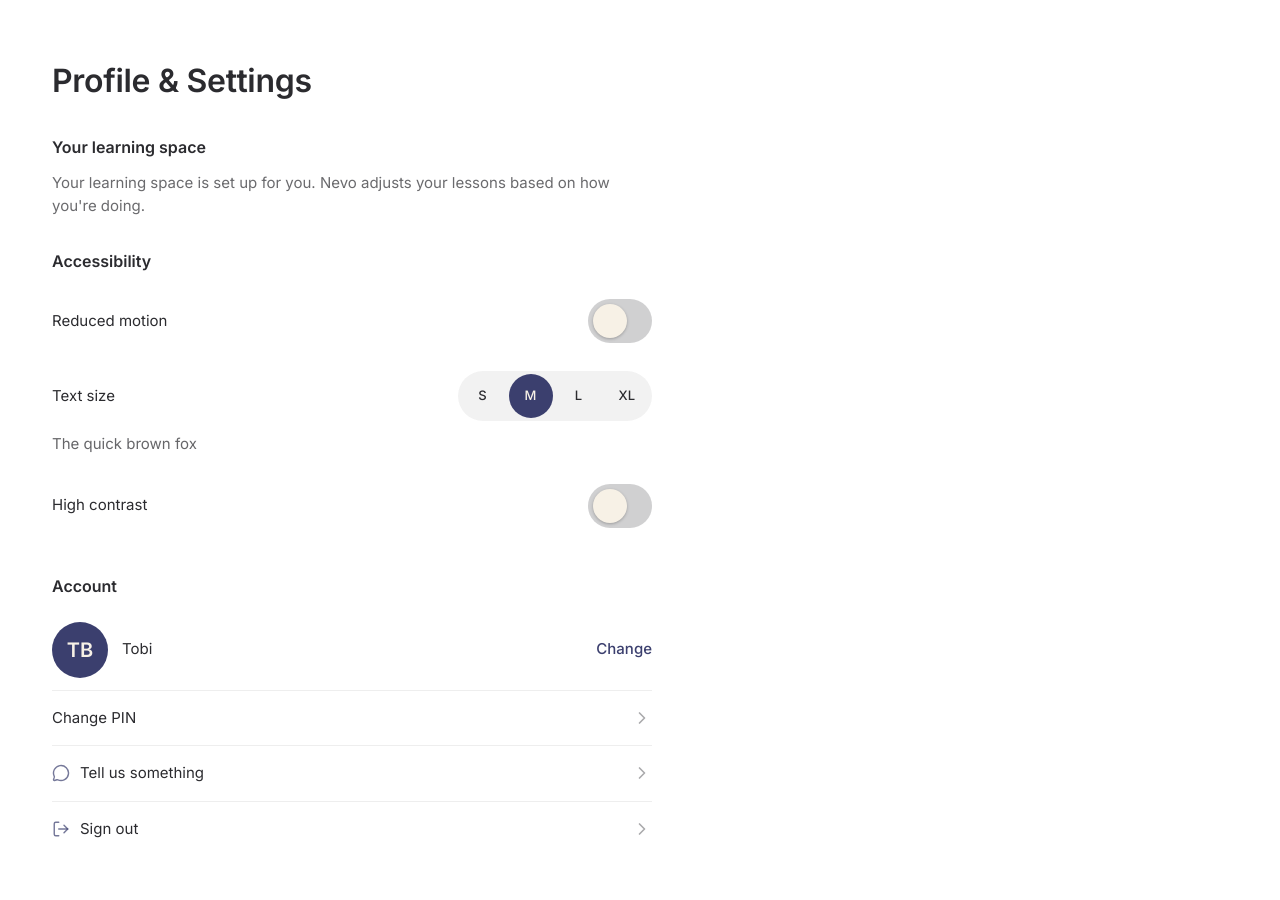
Test case: saving the name a child chose › puts the name back, and says nothing was saved, when the account refuses it
Expected: the text "Tobi" is shown, [122, 639, 152, 658]
Step 1. Click the button "Change" → click(624, 650), box [596, 628, 652, 672]
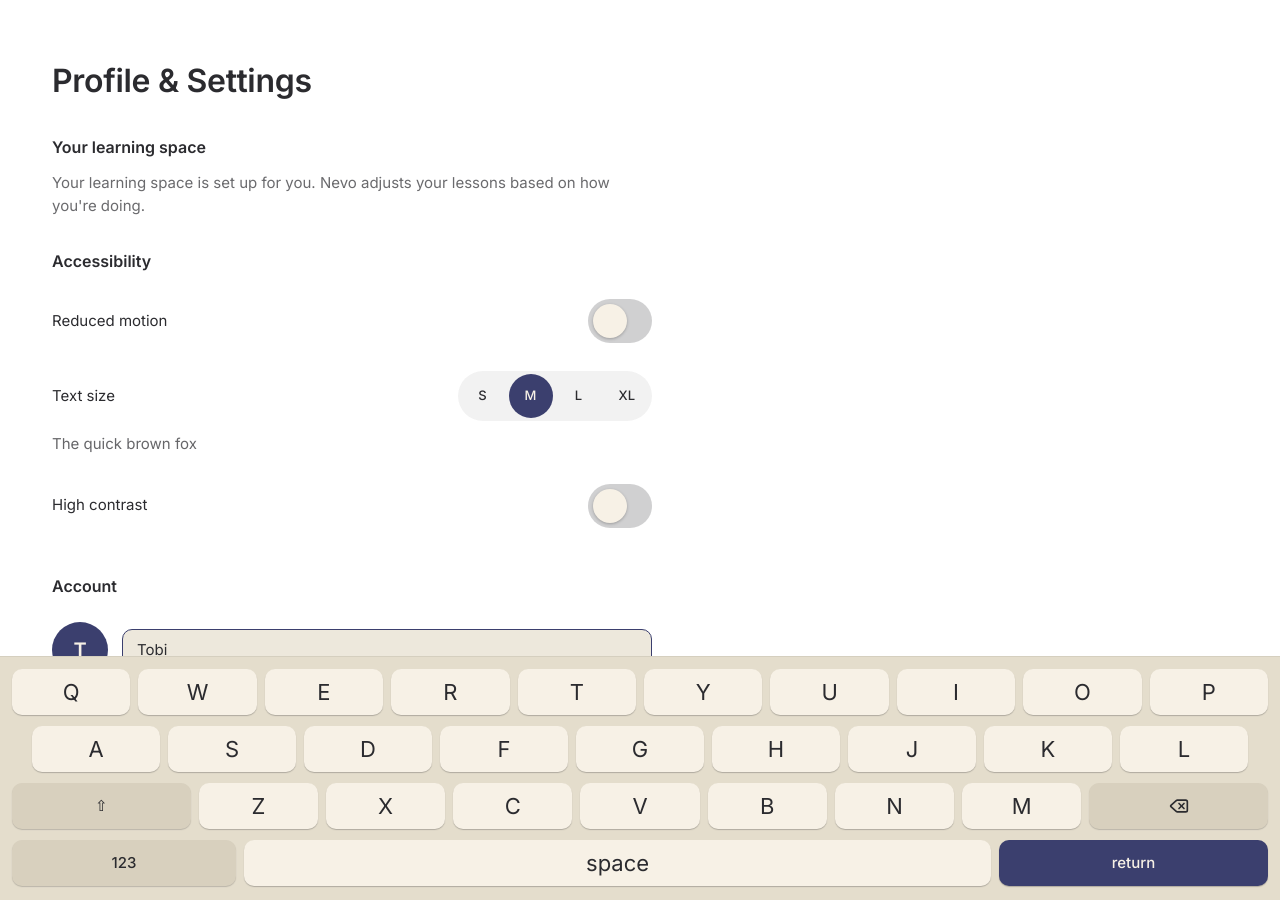
Step 2. Replace the text in the field named "Your name" with "Zee" → (387, 650), box [122, 629, 652, 671]
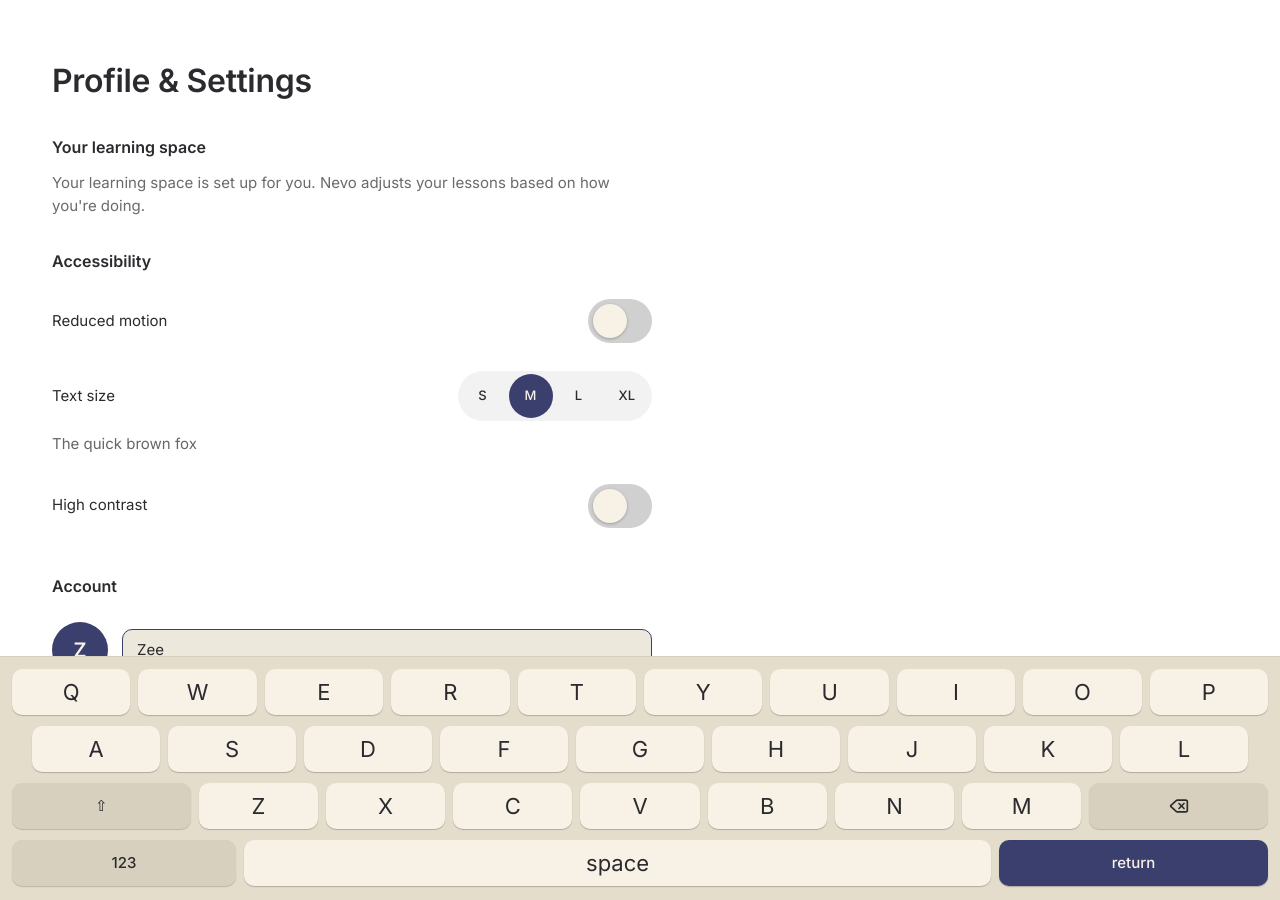
Step 3. Leave the field named "Your name", box [122, 629, 652, 671]
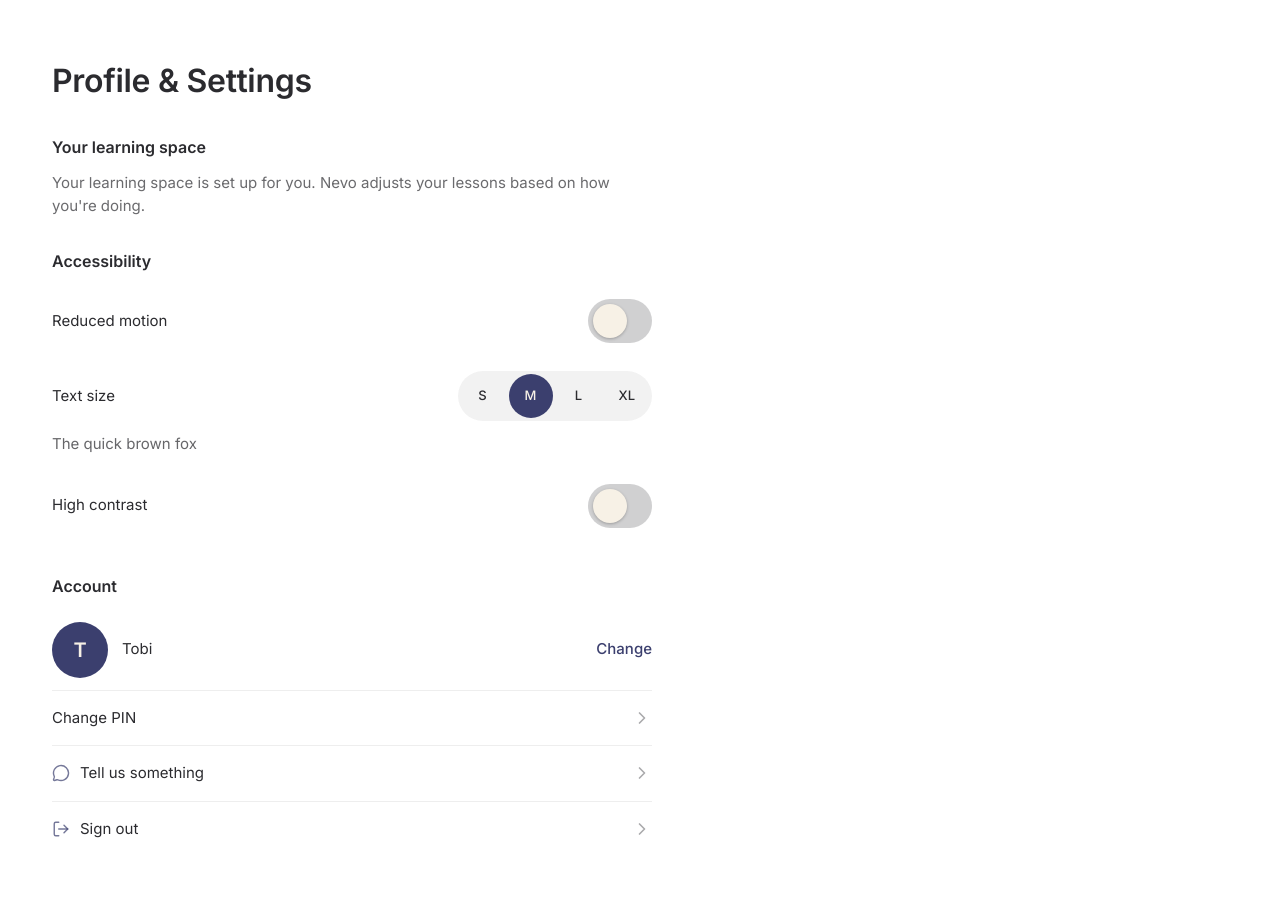
Expected: the text "Zee" is not shown
Expected: the text "Tobi" is shown, [122, 639, 152, 658]
